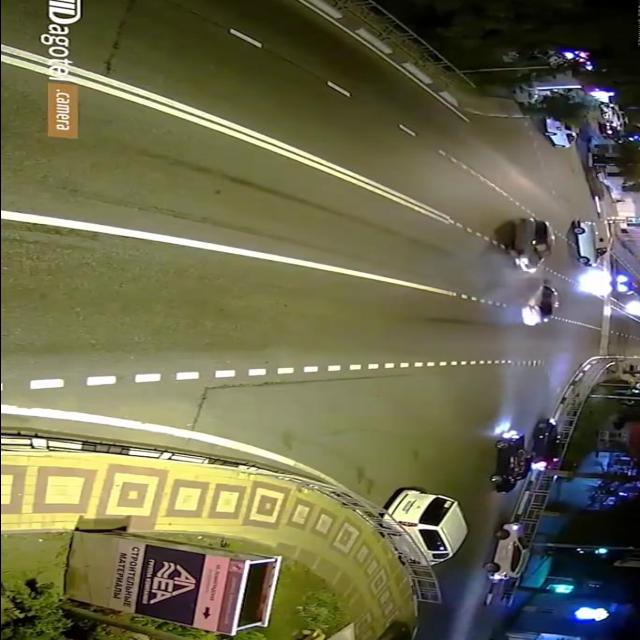accident: (483, 410, 577, 498), (497, 213, 565, 327)
